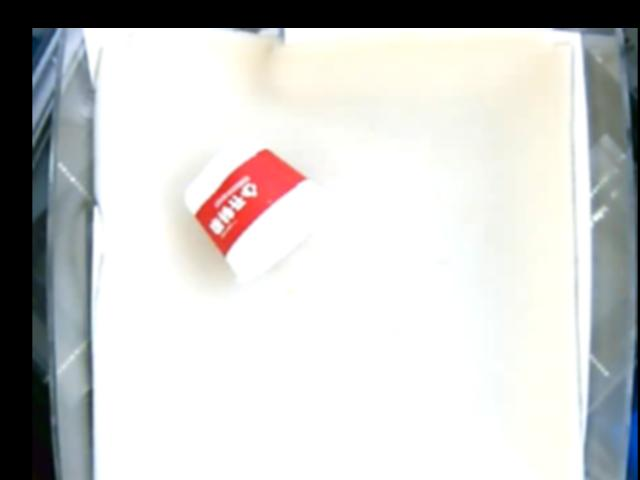Cup: (180, 134, 335, 278)
